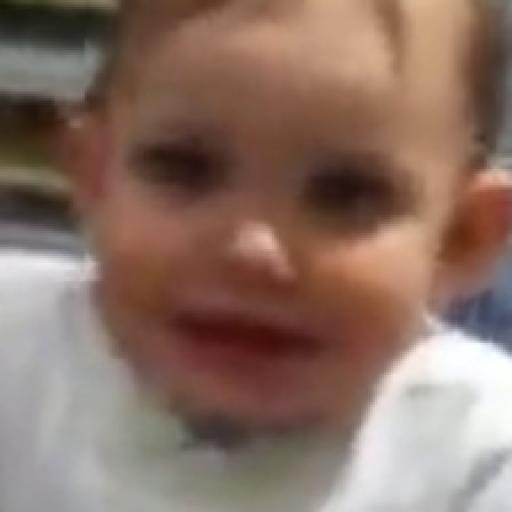Autism: (100, 19, 486, 493)
